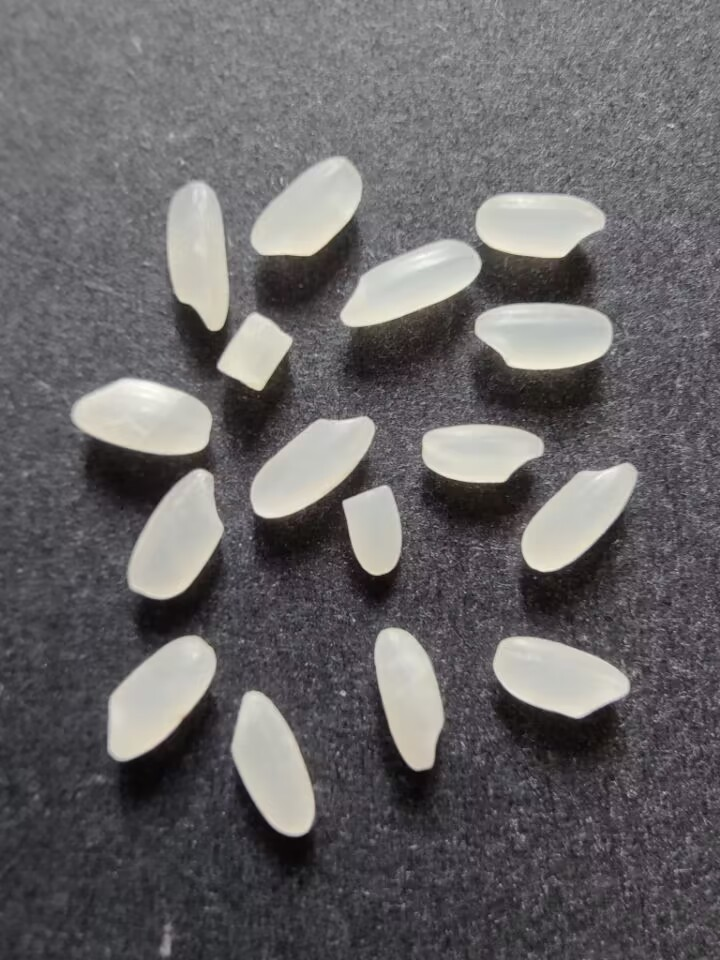broken: (340, 483, 408, 579), (215, 312, 293, 392)
rice: (100, 632, 218, 766), (244, 410, 380, 523), (335, 233, 481, 335), (515, 459, 640, 578), (120, 463, 226, 603), (230, 688, 322, 841), (487, 633, 636, 722), (244, 151, 366, 259), (64, 372, 216, 458), (369, 623, 452, 777), (162, 175, 235, 336), (468, 298, 618, 371), (473, 191, 611, 263), (416, 420, 550, 488)
